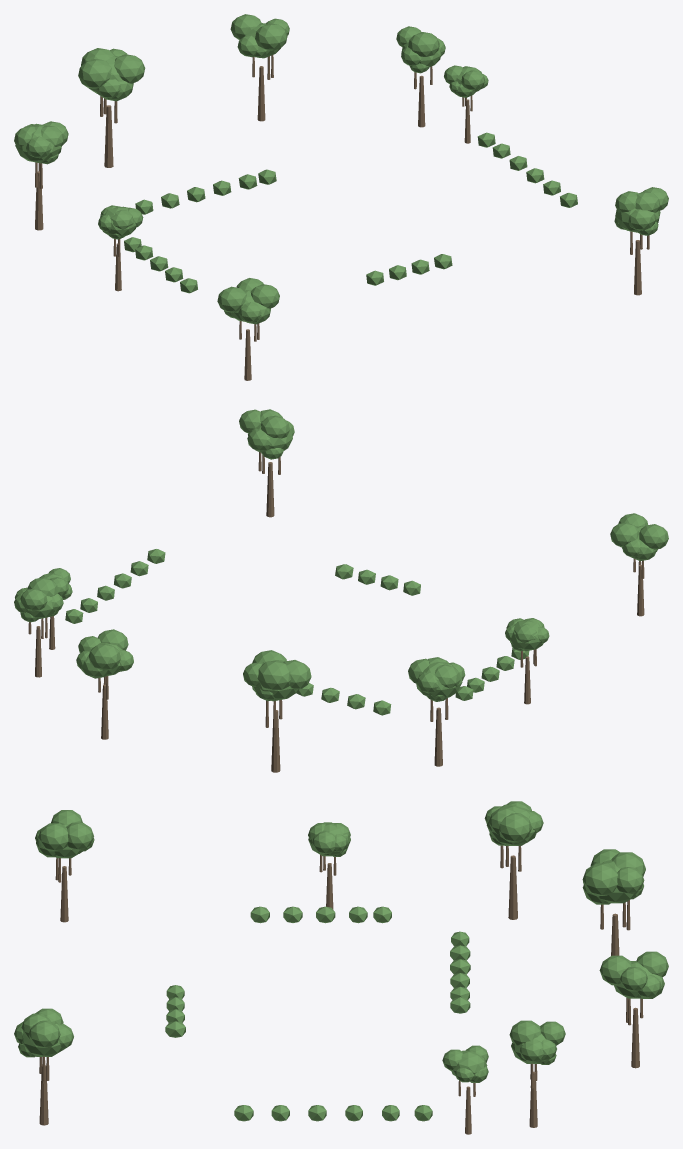
File: yard_planting.glb
The picture shows the model from 3 angles, top to bottom: view 1: azimuth 30°, elevation 25°; view 2: azimuth 150°, elevation 25°; view 3: azimuth 270°, elevation 25°; orthographic projection. The views are drawn at different scales.
Parts seen in each view (by area): view 1: tree.4.canopy, tree.1.canopy, tree.2.canopy, tree.5.canopy, tree.3.canopy, tree.6.canopy, tree.7.canopy, tree.8.canopy, tree.4.trunk.001, tree.5.trunk.001; view 2: tree.4.canopy, tree.5.canopy, tree.2.canopy, tree.1.canopy, tree.3.canopy, tree.6.canopy, tree.7.canopy, tree.4.trunk.001, tree.3.trunk.001, tree.2.trunk.001; view 3: tree.4.canopy, tree.5.canopy, tree.2.canopy, tree.1.canopy, tree.3.canopy, tree.6.canopy, tree.8.canopy, tree.7.canopy, tree.3.trunk.001, tree.5.trunk.001, tree.4.trunk.001, tree.2.trunk.001 (+1 smaller).
Part boxes in pixels (left/top/right/bottom): tree.4.canopy: left=78, top=48, right=145, bottom=101; tree.1.canopy: left=217, top=278, right=279, bottom=324; tree.2.canopy: left=614, top=187, right=668, bottom=235; tree.5.canopy: left=230, top=14, right=289, bottom=58; tree.3.canopy: left=14, top=121, right=68, bottom=164; tree.6.canopy: left=396, top=26, right=445, bottom=73; tree.7.canopy: left=98, top=205, right=143, bottom=239; tree.8.canopy: left=444, top=65, right=488, bottom=97; tree.4.trunk.001: left=100, top=96, right=117, bottom=167; tree.5.trunk.001: left=252, top=55, right=273, bottom=121; tree.4.canopy: left=243, top=650, right=311, bottom=701; tree.5.canopy: left=76, top=629, right=133, bottom=678; tree.2.canopy: left=239, top=409, right=294, bottom=459; tree.1.canopy: left=610, top=513, right=668, bottom=561; tree.3.canopy: left=408, top=657, right=465, bottom=701; tree.6.canopy: left=14, top=577, right=63, bottom=622; tree.7.canopy: left=505, top=618, right=549, bottom=651; tree.4.trunk.001: left=265, top=700, right=282, bottom=772; tree.3.trunk.001: left=430, top=698, right=448, bottom=766; tree.2.trunk.001: left=258, top=452, right=280, bottom=517; tree.4.canopy: left=582, top=849, right=645, bottom=904; tree.5.canopy: left=599, top=951, right=668, bottom=998; tree.2.canopy: left=14, top=1008, right=73, bottom=1057; tree.1.canopy: left=35, top=810, right=94, bottom=858; tree.3.canopy: left=484, top=801, right=543, bottom=845; tree.6.canopy: left=509, top=1020, right=565, bottom=1064; tree.8.canopy: left=442, top=1045, right=488, bottom=1082; tree.7.canopy: left=308, top=822, right=350, bottom=856; tree.3.trunk.001: left=500, top=845, right=521, bottom=919; tree.5.trunk.001: left=626, top=998, right=643, bottom=1068; tree.4.trunk.001: left=600, top=900, right=630, bottom=955; tree.2.trunk.001: left=39, top=1056, right=49, bottom=1125.
Bounding box in the file's own units: 27.82 × 6.77 × 32.11.
